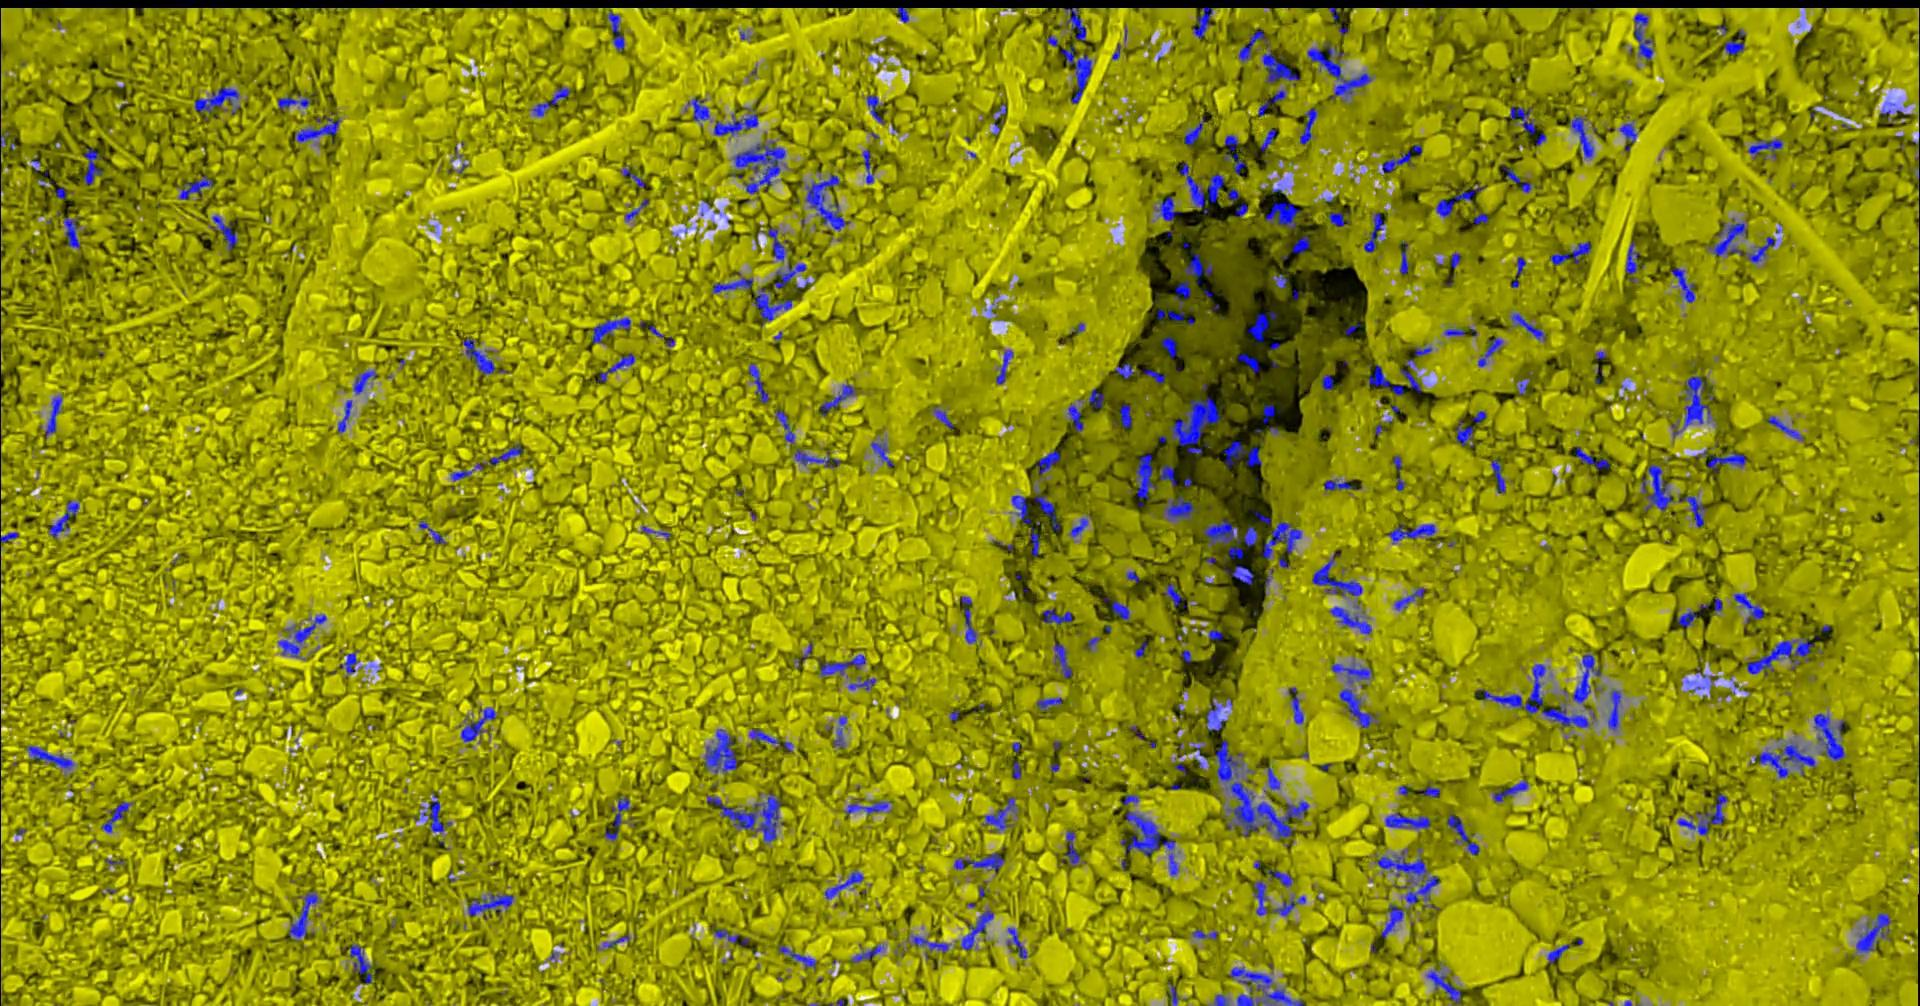ant: (1308, 41, 1373, 100), (1710, 217, 1777, 263), (1230, 967, 1305, 1005), (452, 442, 524, 480), (808, 171, 851, 230), (1749, 636, 1815, 674), (1178, 161, 1225, 213), (1204, 520, 1260, 559), (1756, 742, 1817, 777), (1313, 551, 1363, 594), (1679, 793, 1730, 835), (279, 614, 328, 657), (1062, 44, 1093, 103), (1255, 880, 1307, 915), (463, 338, 508, 377), (1158, 279, 1196, 325), (1437, 183, 1487, 216), (1341, 688, 1382, 727), (705, 728, 738, 774), (290, 890, 320, 940), (1263, 521, 1303, 559), (1643, 464, 1675, 511), (1815, 713, 1846, 760), (1429, 962, 1463, 1005), (1573, 653, 1603, 702), (1685, 375, 1712, 428), (756, 287, 792, 325), (1857, 912, 1891, 951), (1448, 813, 1481, 854), (963, 909, 996, 950), (196, 86, 241, 116), (715, 107, 759, 135), (296, 117, 342, 144), (462, 706, 497, 742), (423, 793, 453, 832), (469, 893, 516, 918), (983, 796, 1017, 831), (822, 384, 857, 417), (1263, 51, 1300, 83), (598, 352, 636, 382), (1383, 144, 1423, 171), (1332, 606, 1373, 634), (606, 796, 631, 841), (1697, 450, 1749, 471), (50, 500, 80, 537), (533, 86, 571, 116), (825, 870, 865, 898), (750, 728, 794, 753), (28, 746, 75, 768), (1225, 439, 1263, 467), (1137, 453, 1157, 506), (778, 942, 818, 969), (1370, 365, 1404, 395), (1035, 492, 1062, 530), (1571, 116, 1595, 158), (593, 318, 632, 343), (1266, 201, 1302, 229), (822, 654, 867, 676), (1239, 29, 1270, 61), (955, 852, 1006, 871), (1550, 241, 1592, 264), (1512, 312, 1547, 340), (350, 944, 375, 983), (1636, 13, 1656, 58), (796, 447, 842, 467), (102, 801, 132, 832), (1501, 163, 1533, 192), (1248, 310, 1277, 342), (215, 213, 239, 251), (1389, 523, 1437, 542), (1186, 253, 1215, 283), (1735, 593, 1765, 622), (1768, 415, 1804, 439), (1164, 495, 1201, 520), (775, 262, 808, 288), (1680, 494, 1707, 527), (1225, 133, 1247, 174), (1333, 662, 1374, 683), (180, 174, 215, 199), (641, 320, 676, 345), (1672, 267, 1697, 302), (1365, 212, 1387, 251), (846, 798, 893, 815), (750, 362, 771, 403), (1576, 446, 1611, 469), (1387, 810, 1432, 828), (1495, 779, 1529, 801), (1258, 89, 1288, 116), (1401, 359, 1423, 392), (1677, 603, 1710, 626), (46, 396, 63, 438), (1627, 240, 1644, 281), (1065, 8, 1087, 41), (767, 227, 789, 260), (1511, 105, 1537, 133), (1479, 337, 1503, 366), (85, 147, 104, 184), (963, 596, 978, 641), (712, 276, 754, 292), (1396, 587, 1427, 608), (608, 11, 626, 50), (1749, 138, 1784, 158), (1157, 196, 1183, 221), (776, 409, 796, 442), (1208, 697, 1228, 730), (1039, 448, 1062, 478), (420, 520, 450, 542), (690, 97, 711, 127), (1302, 107, 1319, 144), (1055, 643, 1074, 677), (1194, 6, 1214, 38), (872, 441, 897, 467), (1063, 829, 1081, 865), (1185, 116, 1206, 145), (913, 935, 951, 951), (1225, 565, 1256, 586), (1008, 927, 1029, 958), (1164, 582, 1189, 607), (1105, 596, 1131, 619), (279, 93, 312, 111), (997, 351, 1015, 384), (715, 929, 750, 945), (852, 944, 885, 962), (1724, 29, 1747, 55), (340, 649, 361, 677), (626, 199, 651, 221), (869, 94, 886, 124), (1290, 687, 1305, 723), (1013, 495, 1032, 523), (1609, 688, 1622, 730), (65, 216, 81, 248), (1043, 608, 1074, 625), (356, 370, 378, 392), (1492, 459, 1507, 493), (622, 166, 646, 187), (1457, 419, 1476, 445), (1324, 478, 1363, 490), (1269, 869, 1295, 887), (1512, 257, 1528, 287), (935, 406, 955, 429), (643, 525, 673, 540), (339, 399, 353, 432), (1549, 942, 1571, 963), (1238, 353, 1261, 372), (994, 103, 1008, 133), (1069, 403, 1084, 431), (834, 716, 848, 747), (1161, 464, 1178, 486), (863, 149, 875, 183), (850, 676, 877, 690), (1170, 983, 1187, 1005), (1037, 697, 1064, 711), (604, 934, 631, 948), (1263, 404, 1283, 423), (1070, 518, 1090, 537), (1622, 122, 1638, 144), (1261, 128, 1277, 150), (1162, 335, 1178, 357), (1330, 211, 1351, 226), (1420, 781, 1441, 796), (1293, 235, 1310, 253), (1145, 368, 1166, 384), (1090, 387, 1105, 408), (1252, 509, 1272, 525), (1121, 404, 1134, 428), (1401, 240, 1410, 274), (1031, 527, 1041, 556), (1116, 362, 1134, 379), (1269, 766, 1281, 789), (1192, 929, 1219, 939), (1272, 273, 1288, 288), (1, 532, 20, 544), (1121, 794, 1140, 805), (897, 6, 910, 22), (1137, 641, 1149, 657), (1323, 373, 1335, 390), (1229, 187, 1239, 205), (1236, 203, 1250, 216), (1474, 410, 1488, 423), (1210, 629, 1224, 641), (1474, 212, 1490, 224), (1446, 326, 1465, 335), (1015, 760, 1023, 779), (1451, 251, 1462, 268), (1416, 345, 1432, 356), (1215, 995, 1230, 1005), (1182, 649, 1192, 662)
